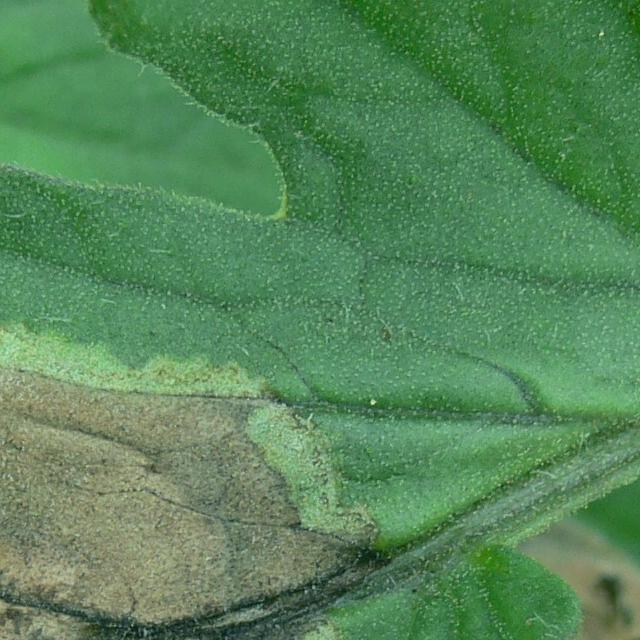Tomato leaf late blight: (0, 23, 640, 640)
